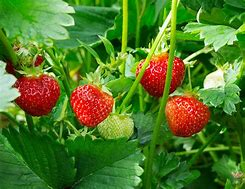Fresa: (11, 69, 62, 119), (136, 50, 186, 98), (69, 79, 114, 131), (164, 92, 209, 139)
